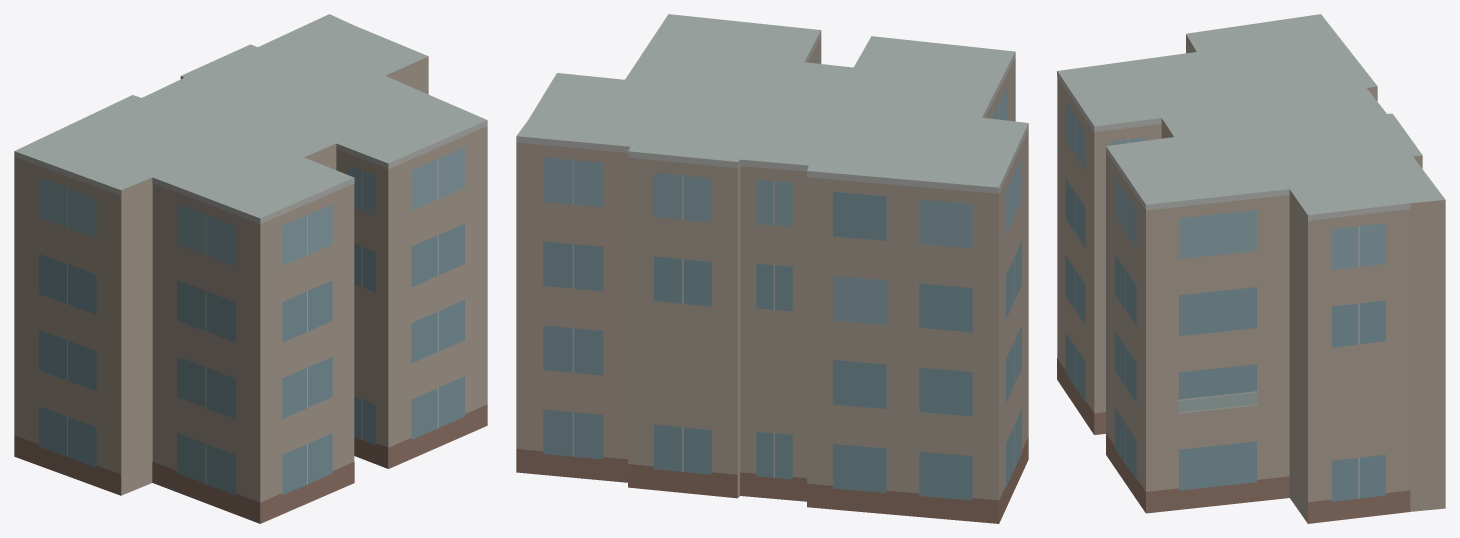
File: survey-upis-32754291.glb
The picture shows the model from 3 angles, left to right: view 1: azimuth 30°, elevation 25°; view 2: azimuth 150°, elevation 25°; view 3: azimuth 270°, elevation 25°; orthographic projection. The views are drawn at different scales.
Visible parts, largest first — view 1: survey-upis-32754291.tmp; view 2: survey-upis-32754291.tmp; view 3: survey-upis-32754291.tmp.
Part boxes in pixels (left/top/right/bottom): survey-upis-32754291.tmp: left=14, top=14, right=487, bottom=523; survey-upis-32754291.tmp: left=516, top=14, right=1028, bottom=523; survey-upis-32754291.tmp: left=1057, top=14, right=1445, bottom=523.
Bounding box in the file's own units: 18.25 × 13.05 × 14.89.
